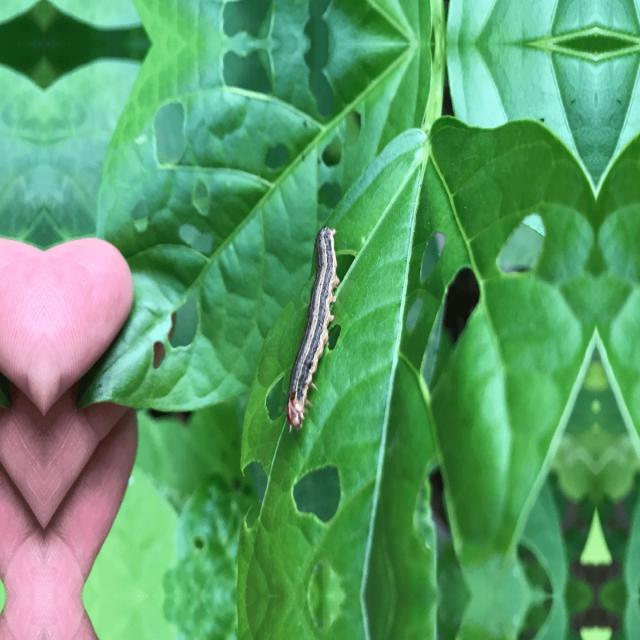armyworm: (285, 224, 340, 432)
